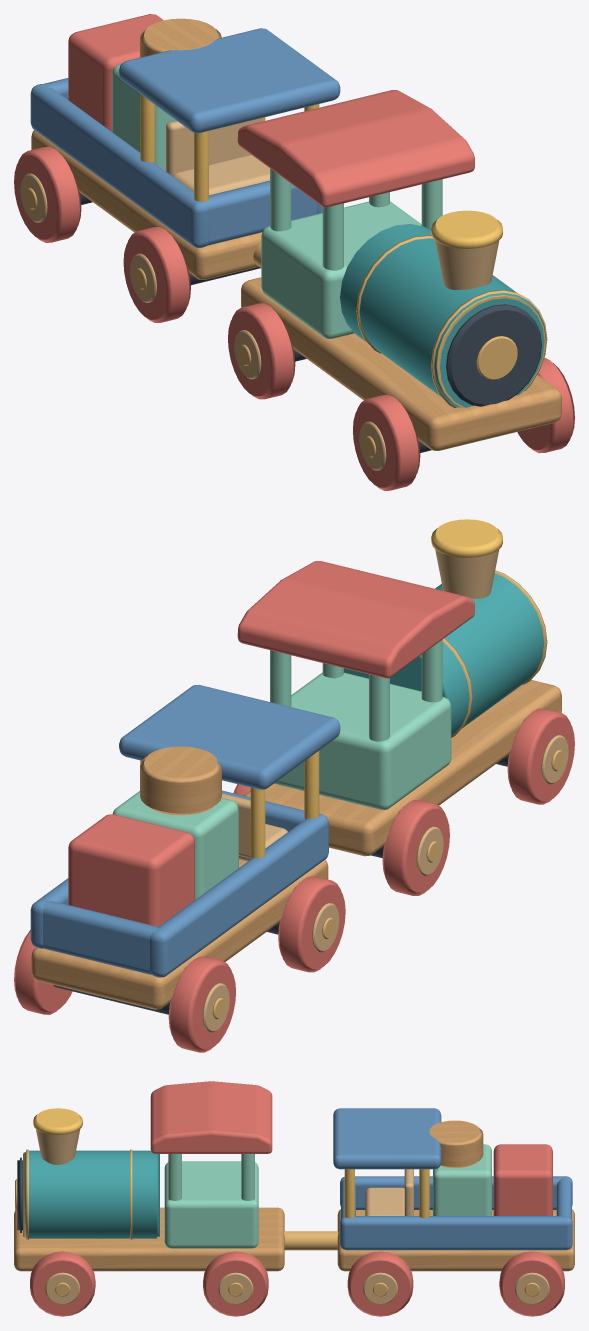
Rendered from playroom_toy_train.glb.
The picture shows the model from 3 angles, top to bottom: view 1: azimuth 30°, elevation 25°; view 2: azimuth 150°, elevation 25°; view 3: azimuth 270°, elevation 25°; orthographic projection. The views are drawn at different scales.
Visible parts, largest first — view 1: playroom_toy_train; view 2: playroom_toy_train; view 3: playroom_toy_train.
Boxes of the visible parts, bbox=[...] form: playroom_toy_train: bbox=[14, 14, 574, 490]; playroom_toy_train: bbox=[14, 519, 574, 1052]; playroom_toy_train: bbox=[14, 1081, 574, 1316].
Bounding box in the file's own units: 1 × 1.32 × 3.69.
9 materials, 1 textured.
